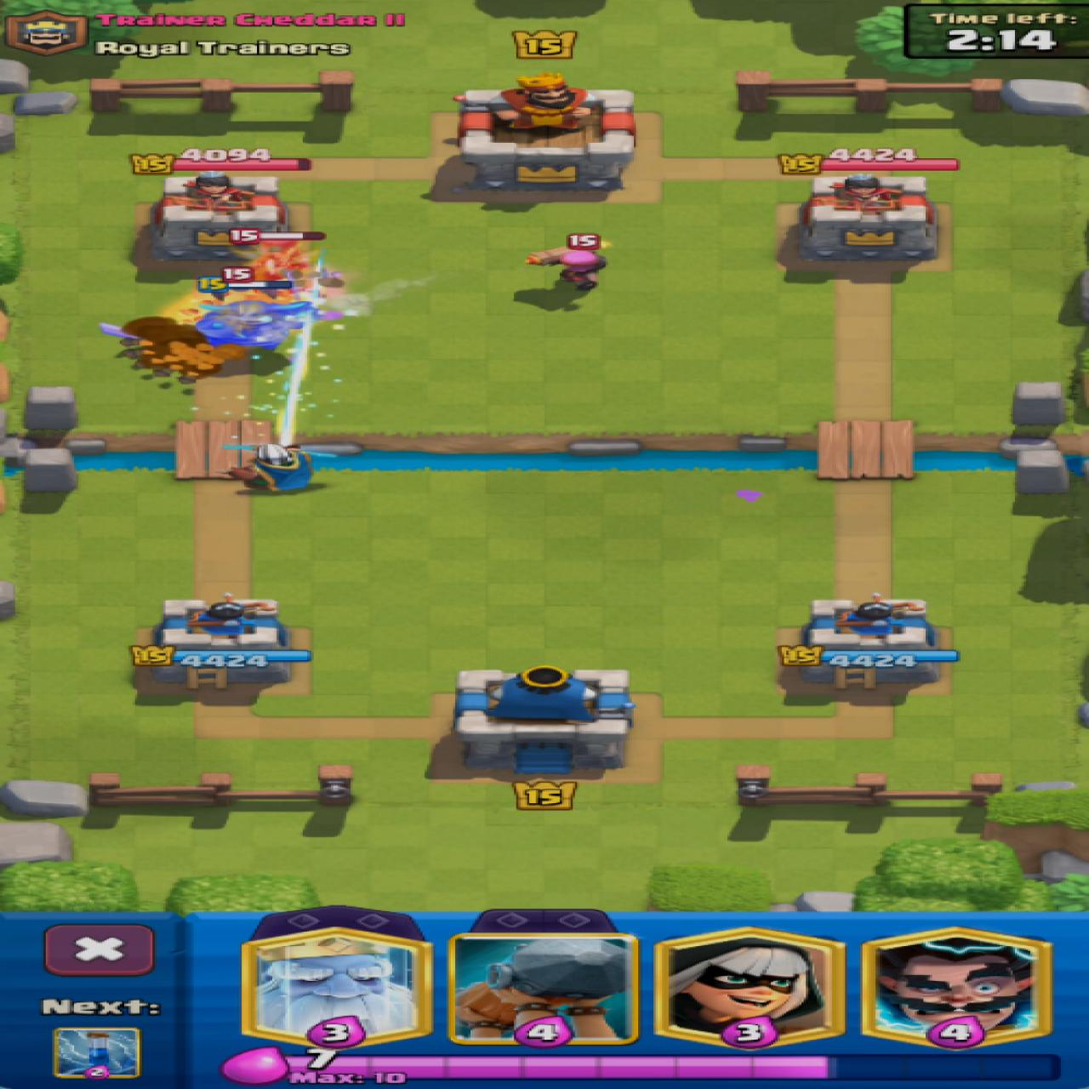Enemy-Firecracker: (529, 246, 605, 290)
Enemy-KingTower: (455, 89, 634, 194)
Enemy-NightWitch: (257, 243, 305, 278)
Enemy-PrincessTower: (150, 164, 290, 262), (799, 174, 934, 258)
